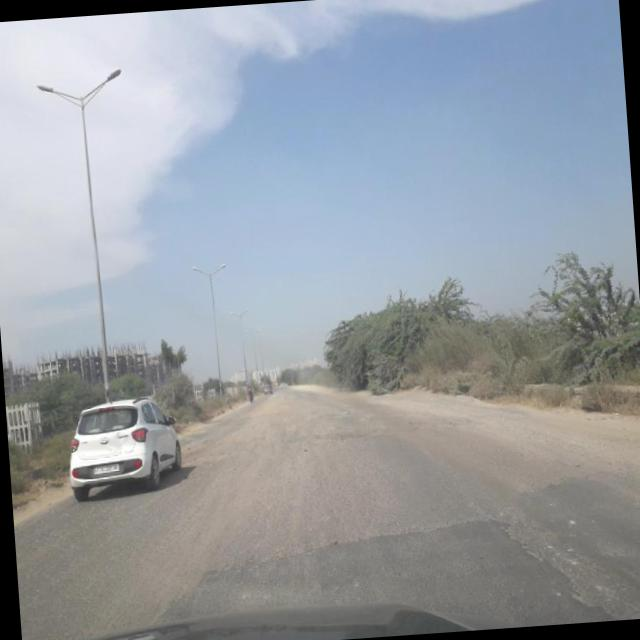crack: (192, 431, 447, 562), (13, 498, 205, 634)
